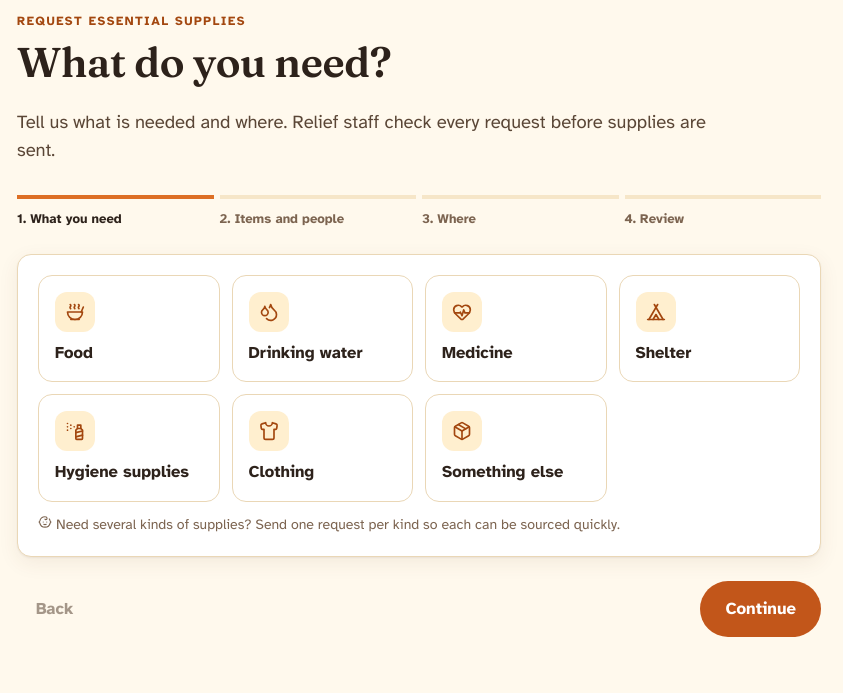
request submission › blocks progress until required fields are valid
Click the button "Continue" at (761, 609), box [700,581,821,637]
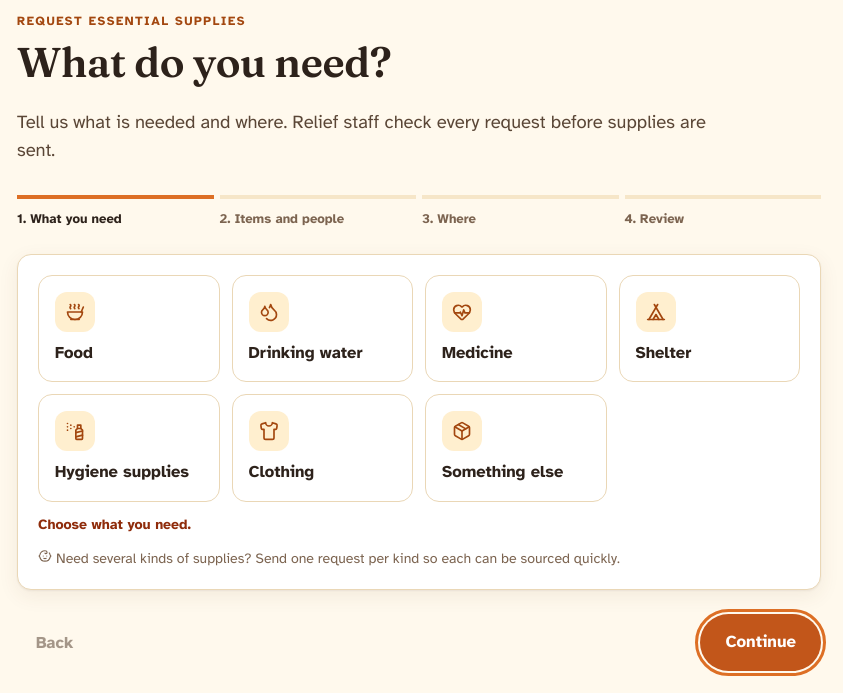
Expected: the text "Choose what you need." is shown, [38,516,191,533]
